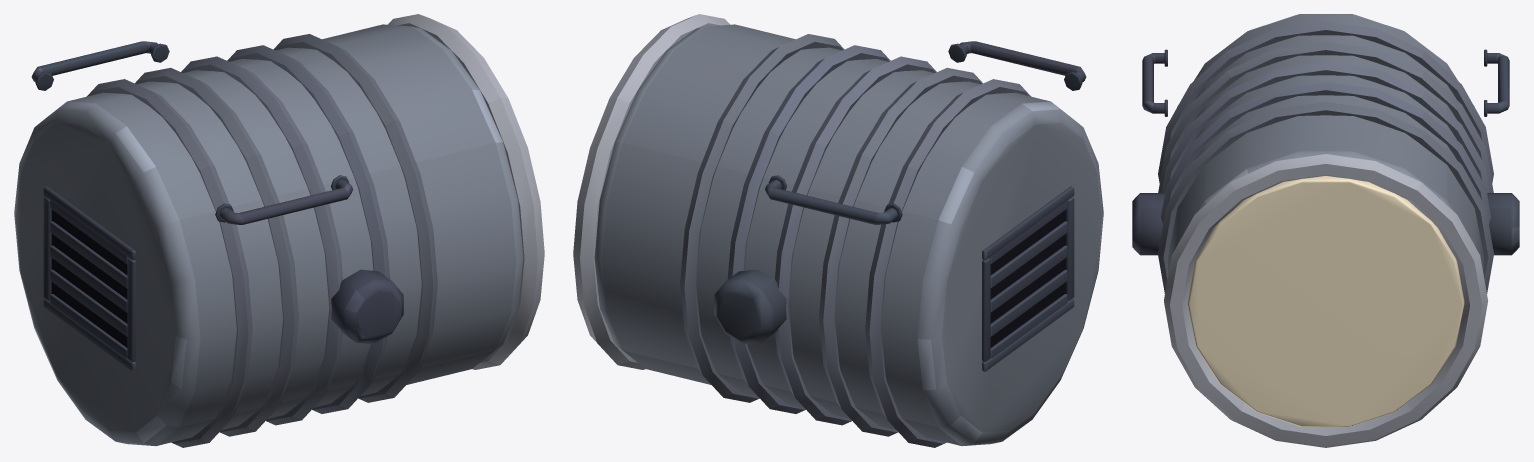
The model's file is SM_Cinema_SearchlightHead.fbx.
3 views of the same model, side by side, from view 1: azimuth 30°, elevation 25°; view 2: azimuth 150°, elevation 25°; view 3: azimuth 270°, elevation 25° (orthographic). The views are drawn at different scales.
Visible parts, largest first — view 1: SM_Cinema_SearchlightHead; view 2: SM_Cinema_SearchlightHead; view 3: SM_Cinema_SearchlightHead.
Part boxes in pixels (x1=…): SM_Cinema_SearchlightHead: x1=14, y1=14, x2=544, y2=447; SM_Cinema_SearchlightHead: x1=573, y1=14, x2=1103, y2=447; SM_Cinema_SearchlightHead: x1=1132, y1=14, x2=1519, y2=447.
Bounding box in the file's own units: 95.9 × 85.07 × 98.08.
